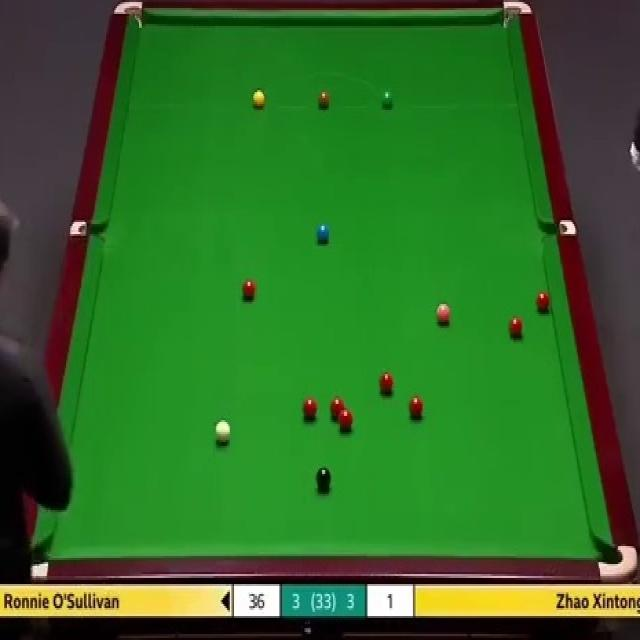pocket: (595, 543, 636, 580), (500, 0, 534, 32), (113, 0, 143, 28), (68, 217, 107, 237), (28, 543, 50, 577), (541, 218, 575, 237)
